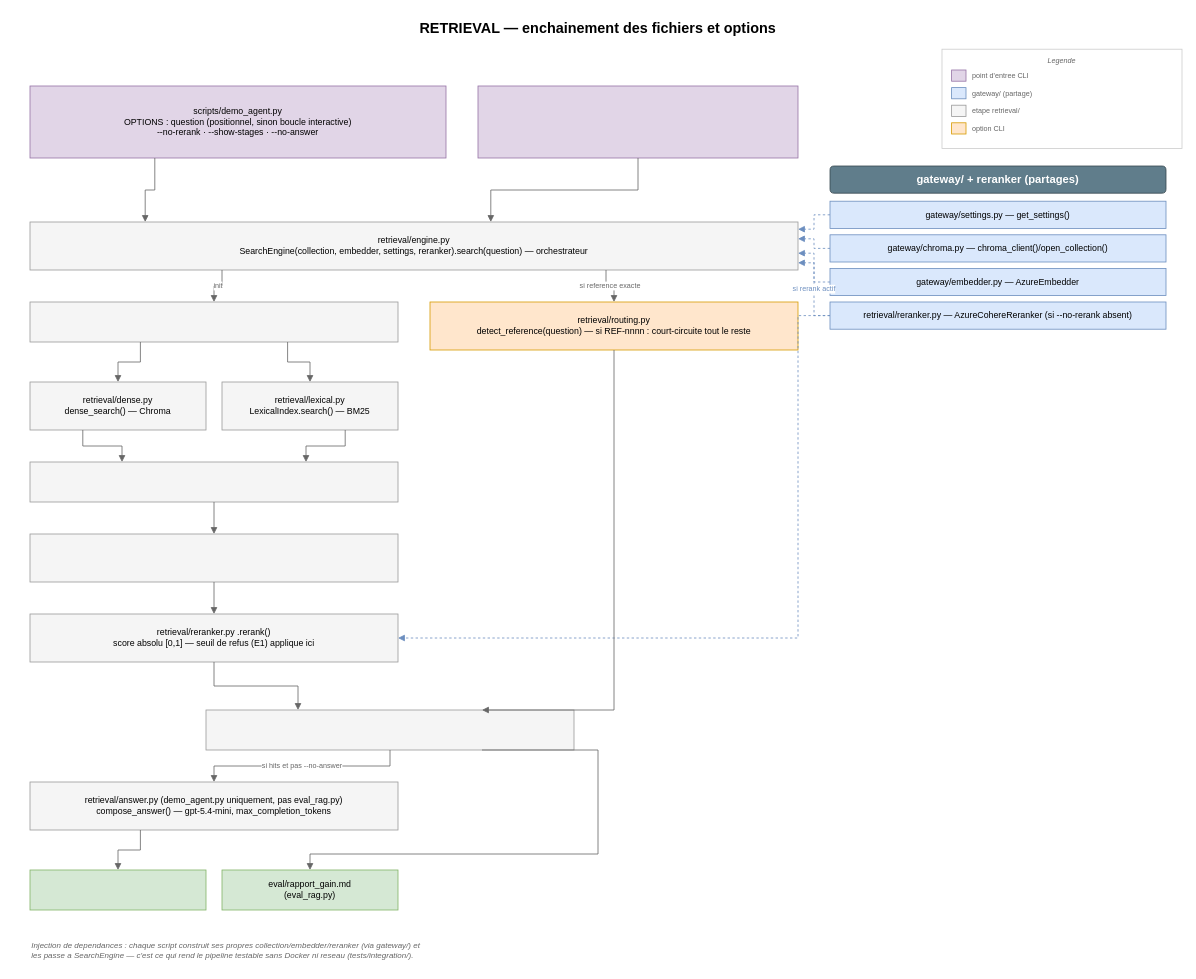
This 1196x979 diagram has some shape labels left out. Here are the shapes that lost their labels. From the top down, the centre of each, then its label:
(x=637, y=121): scripts/eval_rag.py OPTIONS : aucune (make eval) calibration seuil + rapport E6
(x=213, y=321): retrieval/corpus.py load_chunks() — au demarrage, 400 chunks en memoire
(x=213, y=481): retrieval/fusion.py reciprocal_rank_fusion(k=60)
(x=213, y=557): retrieval/dedup.py keep_latest_version() + diversify()
(x=389, y=729): SearchOutcome (hits, is_refusal, route, stages)
(x=117, y=889): Reponse a l'ecran (demo_agent.py)
